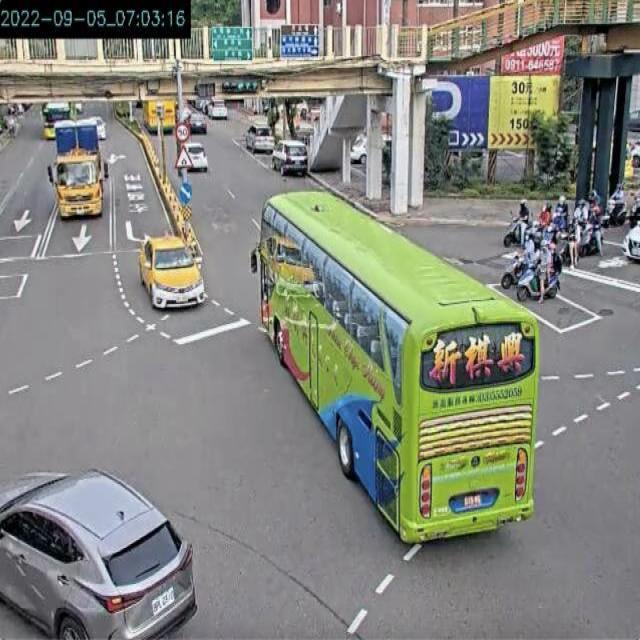Bus: (249, 188, 540, 544)
Car: (0, 466, 198, 639), (137, 233, 207, 310)
